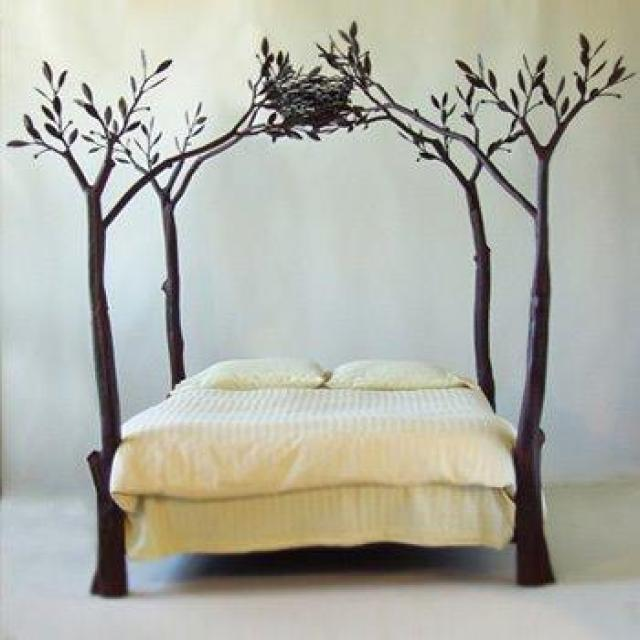bed: (95, 350, 563, 596)
